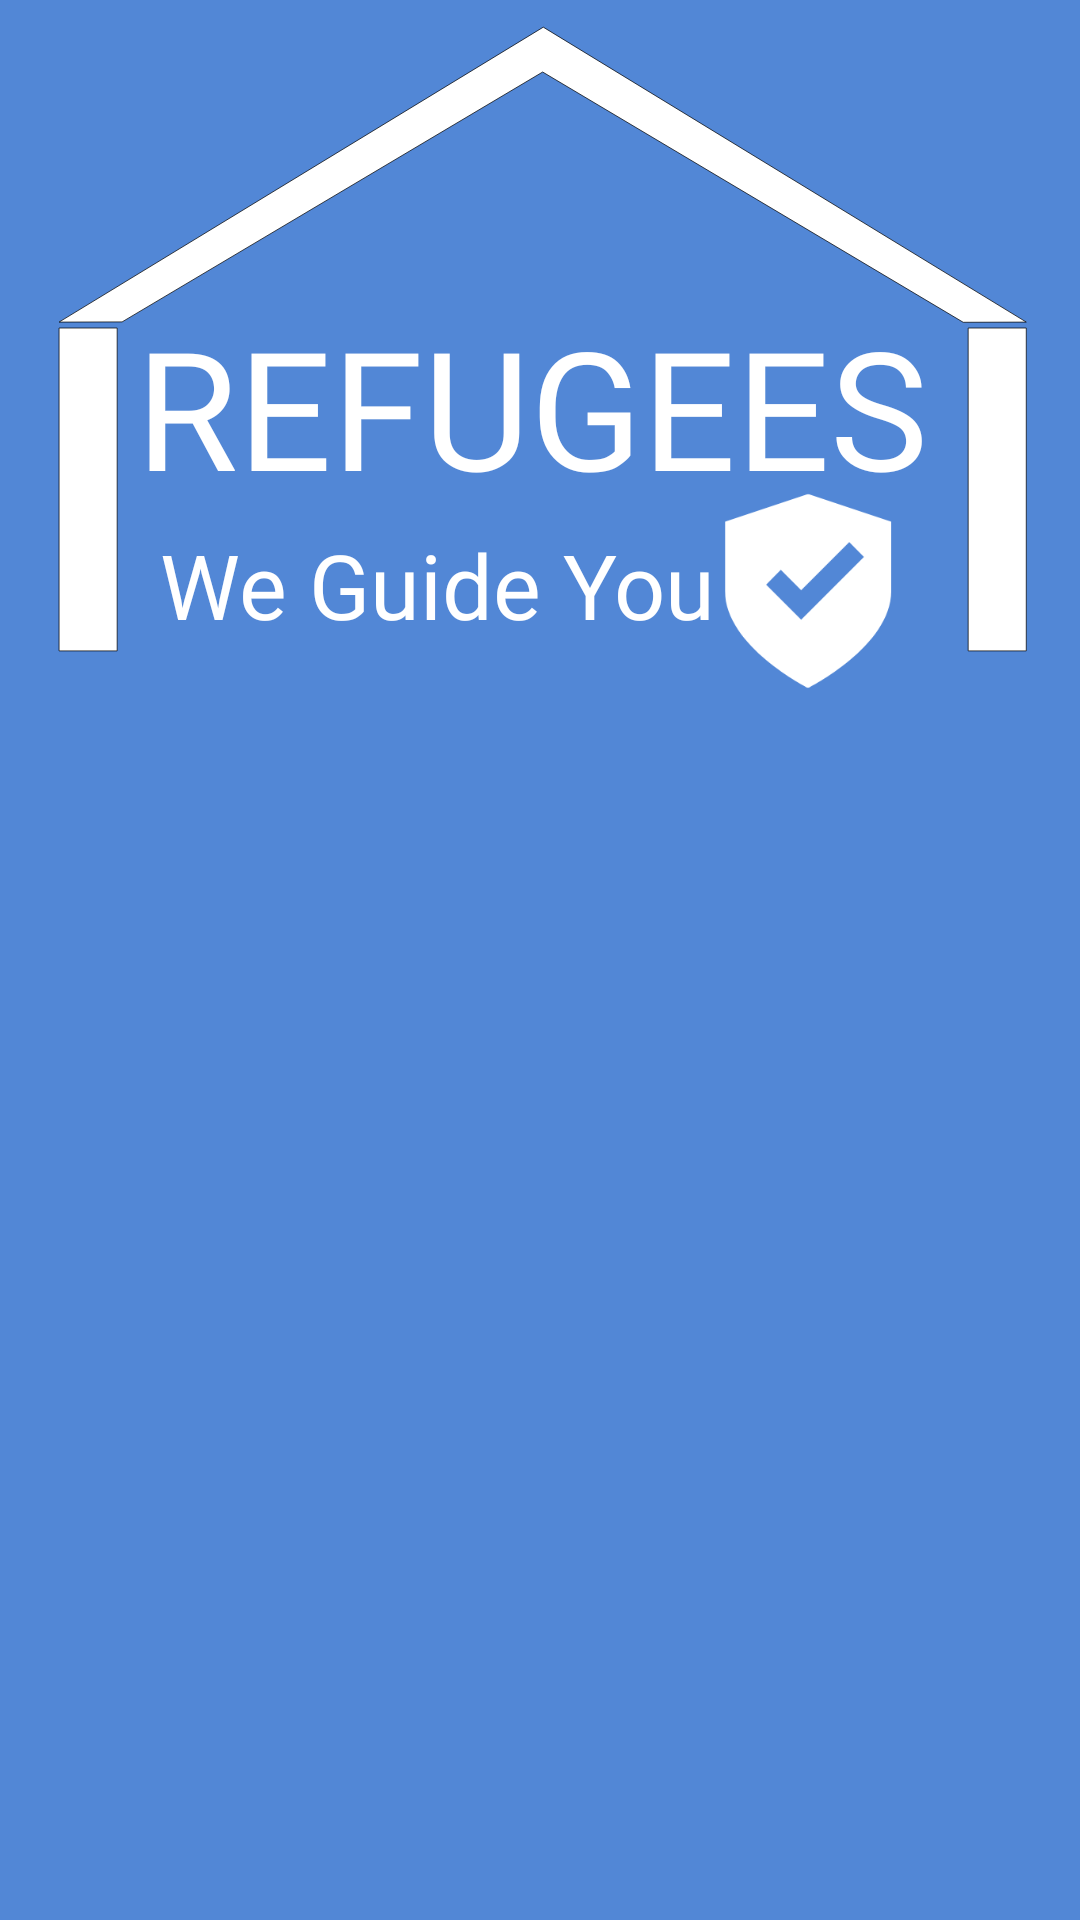

Icon bounding boxes for this 1080x1920 phone screenshot, format (x1, y1, x2, y2):
usheild: (725, 494, 891, 688)
